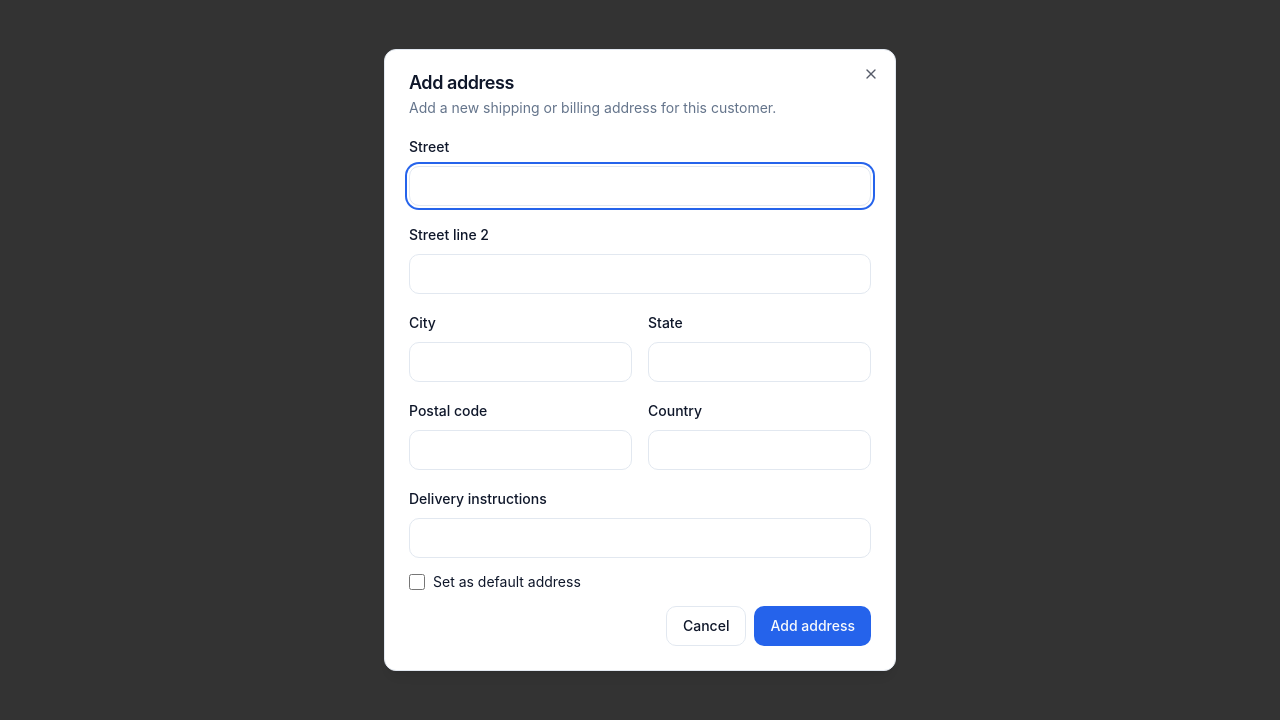
it: UserAddressForm › shows a validation error when street is empty
This screenshot has width=1280, height=720.
Click the button "Add address".
click(813, 626)  # box [754,606,871,646]
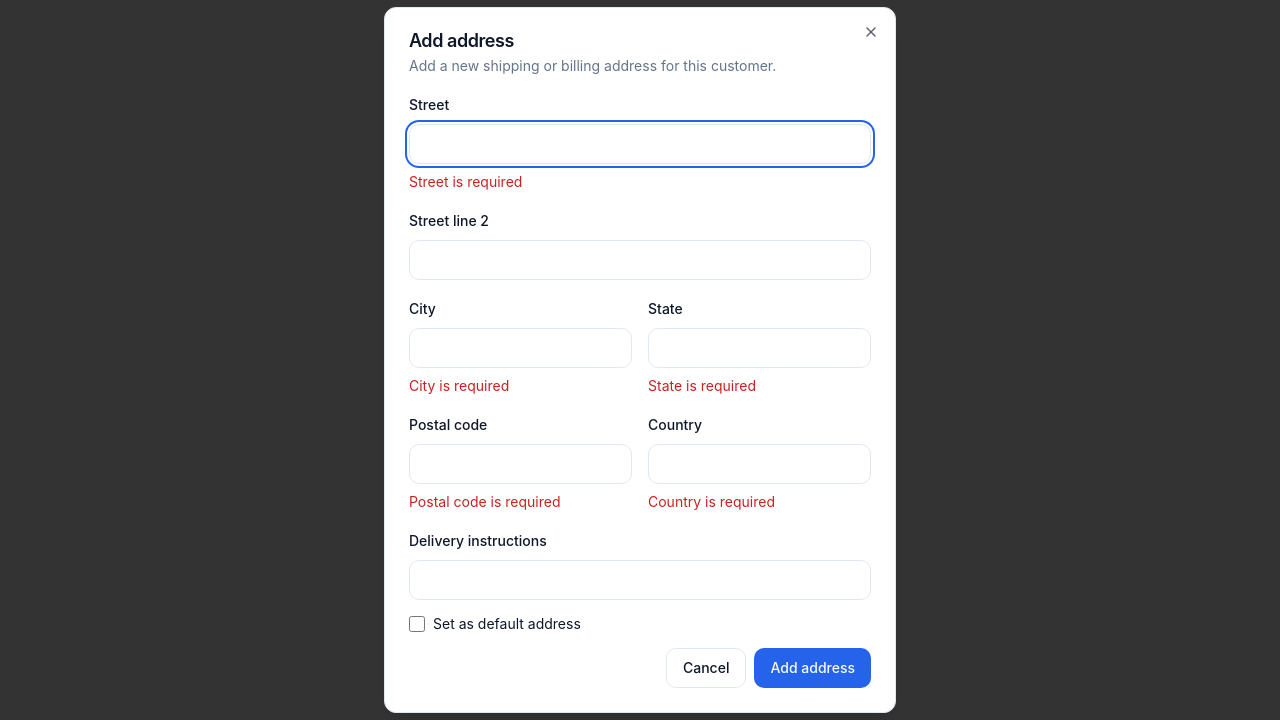
Result: the text "Street is required" is shown at [409,173,522,190]
